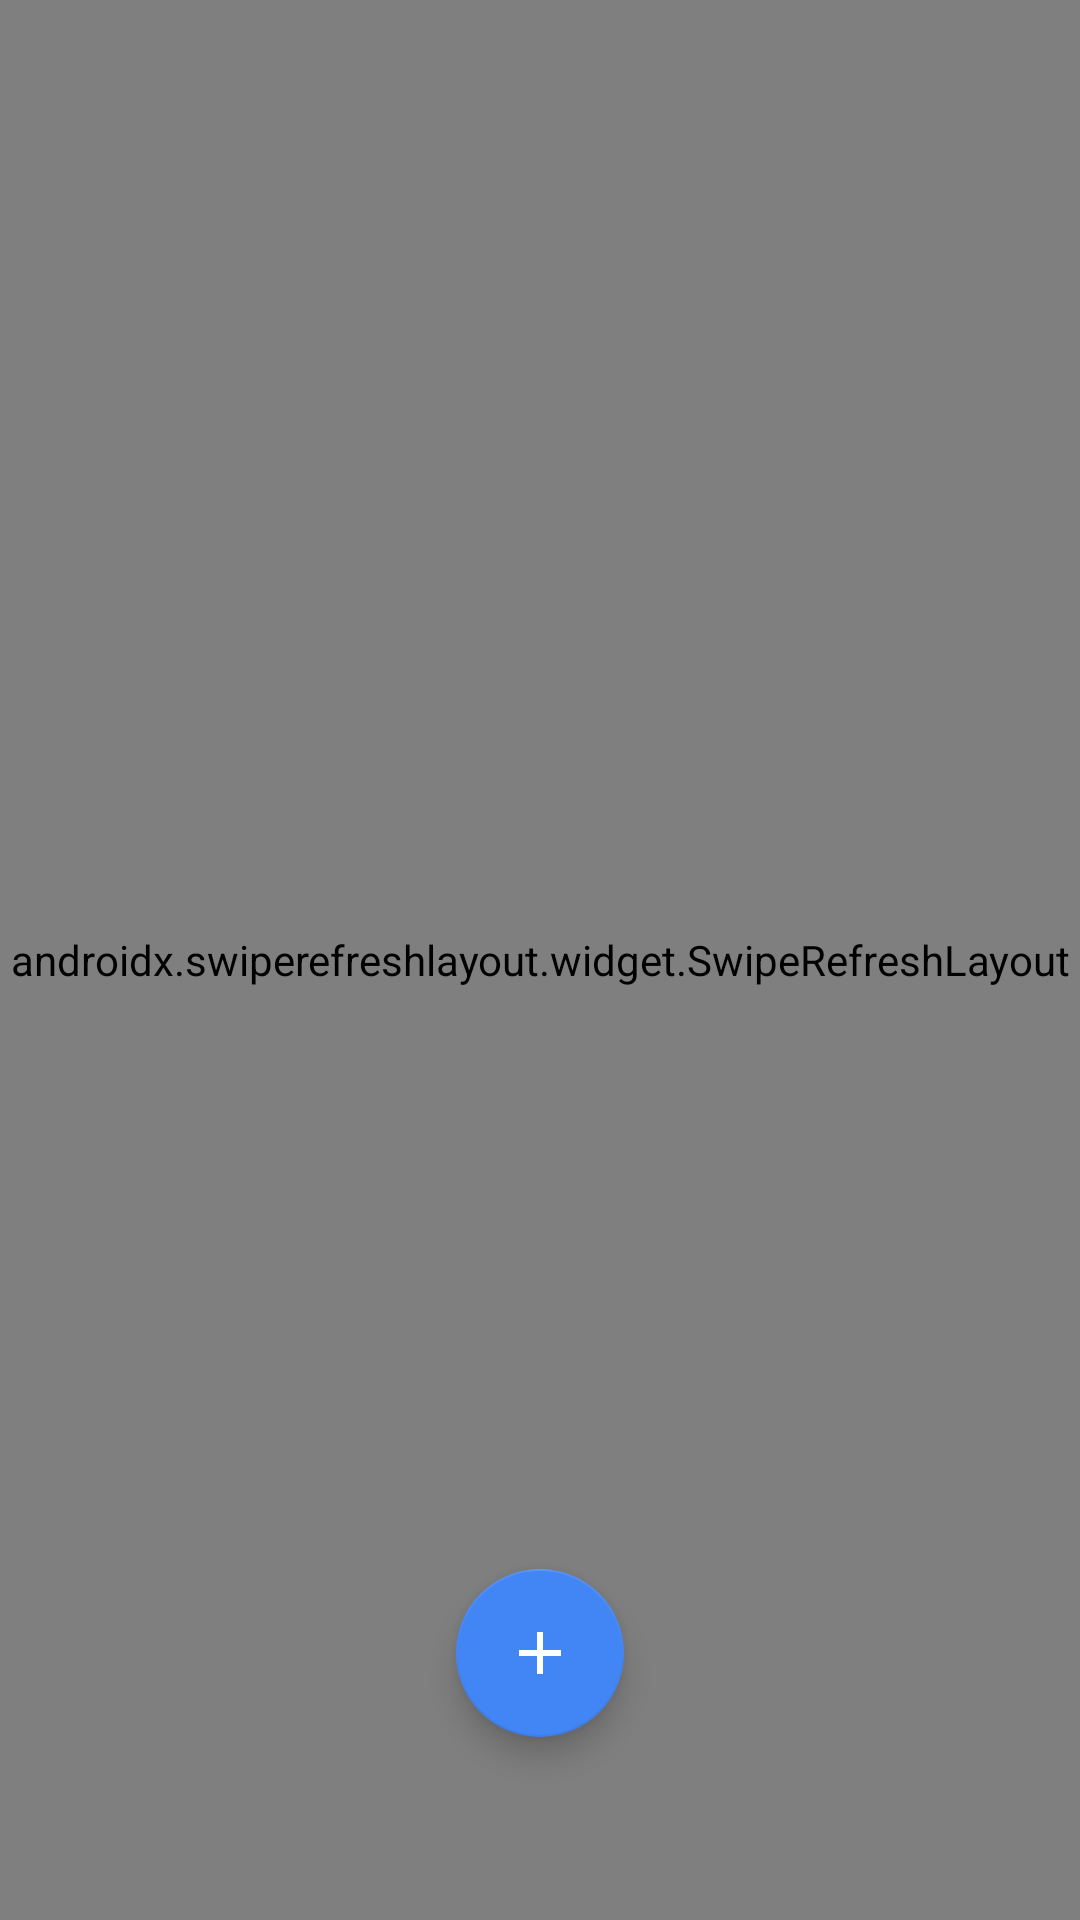

Named icons in this screenshot (1080px x 1920px) and their centers, point (x, y):
add: point (540, 1653)
